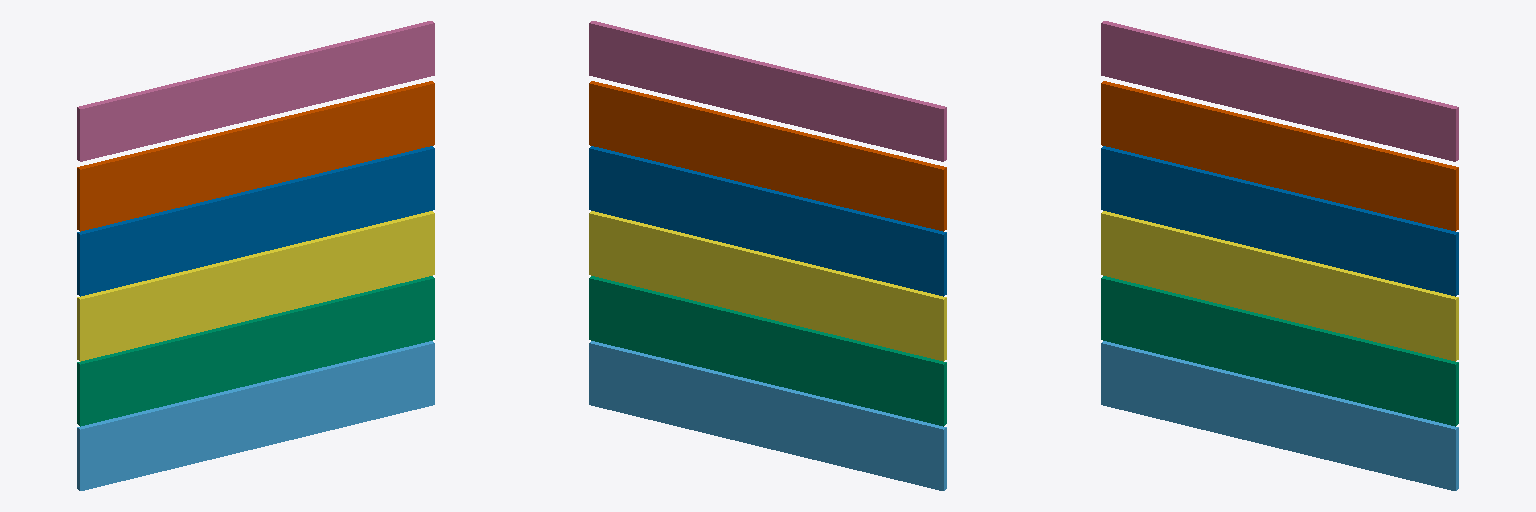
URDF robot description (window_balcony):
<?xml version="1.0" ?>

<robot name="window_balcony">
  
  <gazebo reference="wbase_bac">
    <material>Gazebo/GrassFloor</material>
  </gazebo>

  <link name="world"/>

  <joint name="wlink_joint_bac1" type="revolute">
    <axis xyz="1 0 0"/>
    <parent link="world"/>
    <origin rpy="0 0 0" xyz="11.6 7.1 1.11"/>
    <limit effort="1000.0" lower="-0" upper="1.97" velocity="0.5"/>
    <child link="wlink_bac1"/>
    <dynamics damping="10" friction="1000"/>
  </joint>
  
  <joint name="wlink_joint_bac2" type="revolute">
    <axis xyz="1 0 0"/>
    <parent link="world"/>
    <origin rpy="0 0 0" xyz="11.6 7.1 1.32"/>
    <limit effort="1000.0" lower="-0" upper="1.97" velocity="0.5"/>
    <child link="wlink_bac2"/>
    <dynamics damping="10" friction="1000"/>
  </joint>
  
  <joint name="wlink_joint_bac3" type="revolute">
    <axis xyz="1 0 0"/>
    <parent link="world"/>
    <origin rpy="0 0 0" xyz="11.6 7.1 1.53"/>
    <limit effort="1000.0" lower="-0" upper="1.97" velocity="0.5"/>
    <child link="wlink_bac3"/>
    <dynamics damping="10" friction="1000"/>
  </joint>
  
  <joint name="wlink_joint_bac4" type="revolute">
    <axis xyz="1 0 0"/>
    <parent link="world"/>
    <origin rpy="0 0 0" xyz="11.6 7.1 1.74"/>
    <limit effort="1000.0" lower="-0" upper="1.97" velocity="0.5"/>
    <child link="wlink_bac4"/>
    <dynamics damping="10" friction="1000"/>
  </joint>
  
  <joint name="wlink_joint_bac5" type="revolute">
    <axis xyz="1 0 0"/>
    <parent link="world"/>
    <origin rpy="0 0 0" xyz="11.6 7.1 1.95"/>
    <limit effort="1000.0" lower="-0" upper="1.97" velocity="0.5"/>
    <child link="wlink_bac5"/>
    <dynamics damping="10" friction="1000"/>
  </joint>
  
  <joint name="wlink_joint_bac6" type="revolute">
    <axis xyz="1 0 0"/>
    <parent link="world"/>
    <origin rpy="0 0 0" xyz="11.6 7.1 2.16"/>
    <limit effort="1000.0" lower="-0" upper="1.97" velocity="0.5"/>
    <child link="wlink_bac6"/>
    <dynamics damping="10" friction="1000"/>
  </joint>
  

  <link name="wlink_bac1">
    <inertial>
      <mass value="10"/>
      <origin xyz="0 0 0"/>
      <inertia ixx="1.0" ixy="0.0" ixz="0.0" iyy="0.1" iyz="0.0" izz="0.1"/>
    </inertial>
    <visual>
      <origin rpy="0 0 0" xyz="0 0 0"/>
      <geometry>
        <box size="1.2 0.02 0.2"/>
      </geometry>
    </visual>
    <collision>
      <origin rpy="0 0 0" xyz="0 0 0"/>
      <geometry>
        <box size="1.2 0.02 0.2"/>
      </geometry>
    </collision>
  </link>
  <gazebo reference="wlink_bac1">
    <material>Gazebo/RustySteel</material>
    <turnGravityOff>true</turnGravityOff>
  </gazebo>

  <link name="wlink_bac2">
    <inertial>
      <mass value="10"/>
      <origin xyz="0 0 0"/>
      <inertia ixx="1.0" ixy="0.0" ixz="0.0" iyy="0.1" iyz="0.0" izz="0.1"/>
    </inertial>
    <visual>
      <origin rpy="0 0 0" xyz="0 0 0"/>
      <geometry>
        <box size="1.2 0.02 0.2"/>
      </geometry>
    </visual>
    <collision>
      <origin rpy="0 0 0" xyz="0 0 0"/>
      <geometry>
        <box size="1.2 0.02 0.2"/>
      </geometry>
    </collision>
  </link>
  <gazebo reference="wlink_bac2">
    <material>Gazebo/RustySteel</material>
    <turnGravityOff>true</turnGravityOff>
  </gazebo>
  
  <link name="wlink_bac3">
    <inertial>
      <mass value="10"/>
      <origin xyz="0 0 0"/>
      <inertia ixx="1.0" ixy="0.0" ixz="0.0" iyy="0.1" iyz="0.0" izz="0.1"/>
    </inertial>
    <visual>
      <origin rpy="0 0 0" xyz="0 0 0"/>
      <geometry>
        <box size="1.2 0.02 0.2"/>
      </geometry>
    </visual>
    <collision>
      <origin rpy="0 0 0" xyz="0 0 0"/>
      <geometry>
        <box size="1.2 0.02 0.2"/>
      </geometry>
    </collision>
  </link>
  <gazebo reference="wlink_bac3">
    <material>Gazebo/RustySteel</material>
    <turnGravityOff>true</turnGravityOff>
  </gazebo>
  
  <link name="wlink_bac4">
    <inertial>
      <mass value="10"/>
      <origin xyz="0 0 0"/>
      <inertia ixx="1.0" ixy="0.0" ixz="0.0" iyy="0.1" iyz="0.0" izz="0.1"/>
    </inertial>
    <visual>
      <origin rpy="0 0 0" xyz="0 0 0"/>
      <geometry>
        <box size="1.2 0.02 0.2"/>
      </geometry>
    </visual>
    <collision>
      <origin rpy="0 0 0" xyz="0 0 0"/>
      <geometry>
        <box size="1.2 0.02 0.2"/>
      </geometry>
    </collision>
  </link>
  <gazebo reference="wlink_bac4">
    <material>Gazebo/RustySteel</material>
    <turnGravityOff>true</turnGravityOff>
  </gazebo>
  
  <link name="wlink_bac5">
    <inertial>
      <mass value="10"/>
      <origin xyz="0 0 0"/>
      <inertia ixx="1.0" ixy="0.0" ixz="0.0" iyy="0.1" iyz="0.0" izz="0.1"/>
    </inertial>
    <visual>
      <origin rpy="0 0 0" xyz="0 0 0"/>
      <geometry>
        <box size="1.2 0.02 0.2"/>
      </geometry>
    </visual>
    <collision>
      <origin rpy="0 0 0" xyz="0 0 0"/>
      <geometry>
        <box size="1.2 0.02 0.2"/>
      </geometry>
    </collision>
  </link>
  <gazebo reference="wlink_bac5">
    <material>Gazebo/RustySteel</material>
    <turnGravityOff>true</turnGravityOff>
  </gazebo>
  
  <link name="wlink_bac6">
    <inertial>
      <mass value="10"/>
      <origin xyz="0 0 0"/>
      <inertia ixx="1.0" ixy="0.0" ixz="0.0" iyy="0.1" iyz="0.0" izz="0.1"/>
    </inertial>
    <visual>
      <origin rpy="0 0 0" xyz="0 0 0"/>
      <geometry>
        <box size="1.2 0.02 0.17"/>
      </geometry>
    </visual>
    <collision>
      <origin rpy="0 0 0" xyz="0 0 0"/>
      <geometry>
        <box size="1.2 0.02 0.17"/>
      </geometry>
    </collision>
  </link>
  <gazebo reference="wlink_bac6">
    <material>Gazebo/RustySteel</material>
    <turnGravityOff>true</turnGravityOff>
  </gazebo>-->

</robot>

--- Facts derived from the render (not from the file) ---
Views: 3 orthographic renders of the robot side by side, from view 1: azimuth 30°, elevation 25°; view 2: azimuth 150°, elevation 25°; view 3: azimuth 330°, elevation 25°.
Model window_balcony with 7 links and 6 joints (6 revolute), rooted at world, posed every joint at zero.
Visible links, largest first — view 1: wlink_bac5, wlink_bac3, wlink_bac2, wlink_bac4, wlink_bac1, wlink_bac6; view 2: wlink_bac5, wlink_bac3, wlink_bac2, wlink_bac4, wlink_bac1, wlink_bac6; view 3: wlink_bac5, wlink_bac3, wlink_bac2, wlink_bac4, wlink_bac1, wlink_bac6.
Boxes of the visible links, bbox=[...] form: wlink_bac5: bbox=[77, 81, 434, 231]; wlink_bac3: bbox=[77, 211, 434, 361]; wlink_bac2: bbox=[77, 276, 434, 426]; wlink_bac4: bbox=[77, 146, 434, 296]; wlink_bac1: bbox=[77, 341, 434, 490]; wlink_bac6: bbox=[77, 21, 434, 161]; wlink_bac5: bbox=[589, 81, 946, 231]; wlink_bac3: bbox=[589, 211, 946, 361]; wlink_bac2: bbox=[589, 276, 946, 426]; wlink_bac4: bbox=[589, 146, 946, 296]; wlink_bac1: bbox=[589, 341, 946, 490]; wlink_bac6: bbox=[589, 21, 946, 161]; wlink_bac5: bbox=[1101, 81, 1458, 231]; wlink_bac3: bbox=[1101, 211, 1458, 361]; wlink_bac2: bbox=[1101, 276, 1458, 426]; wlink_bac4: bbox=[1101, 146, 1458, 296]; wlink_bac1: bbox=[1101, 341, 1458, 490]; wlink_bac6: bbox=[1101, 21, 1458, 161].
Bounding box of the posed robot: 1.2 × 0.02 × 1.24 m (x, y, z).
Geometry: primitives only (box / cylinder / sphere), no mesh files.
